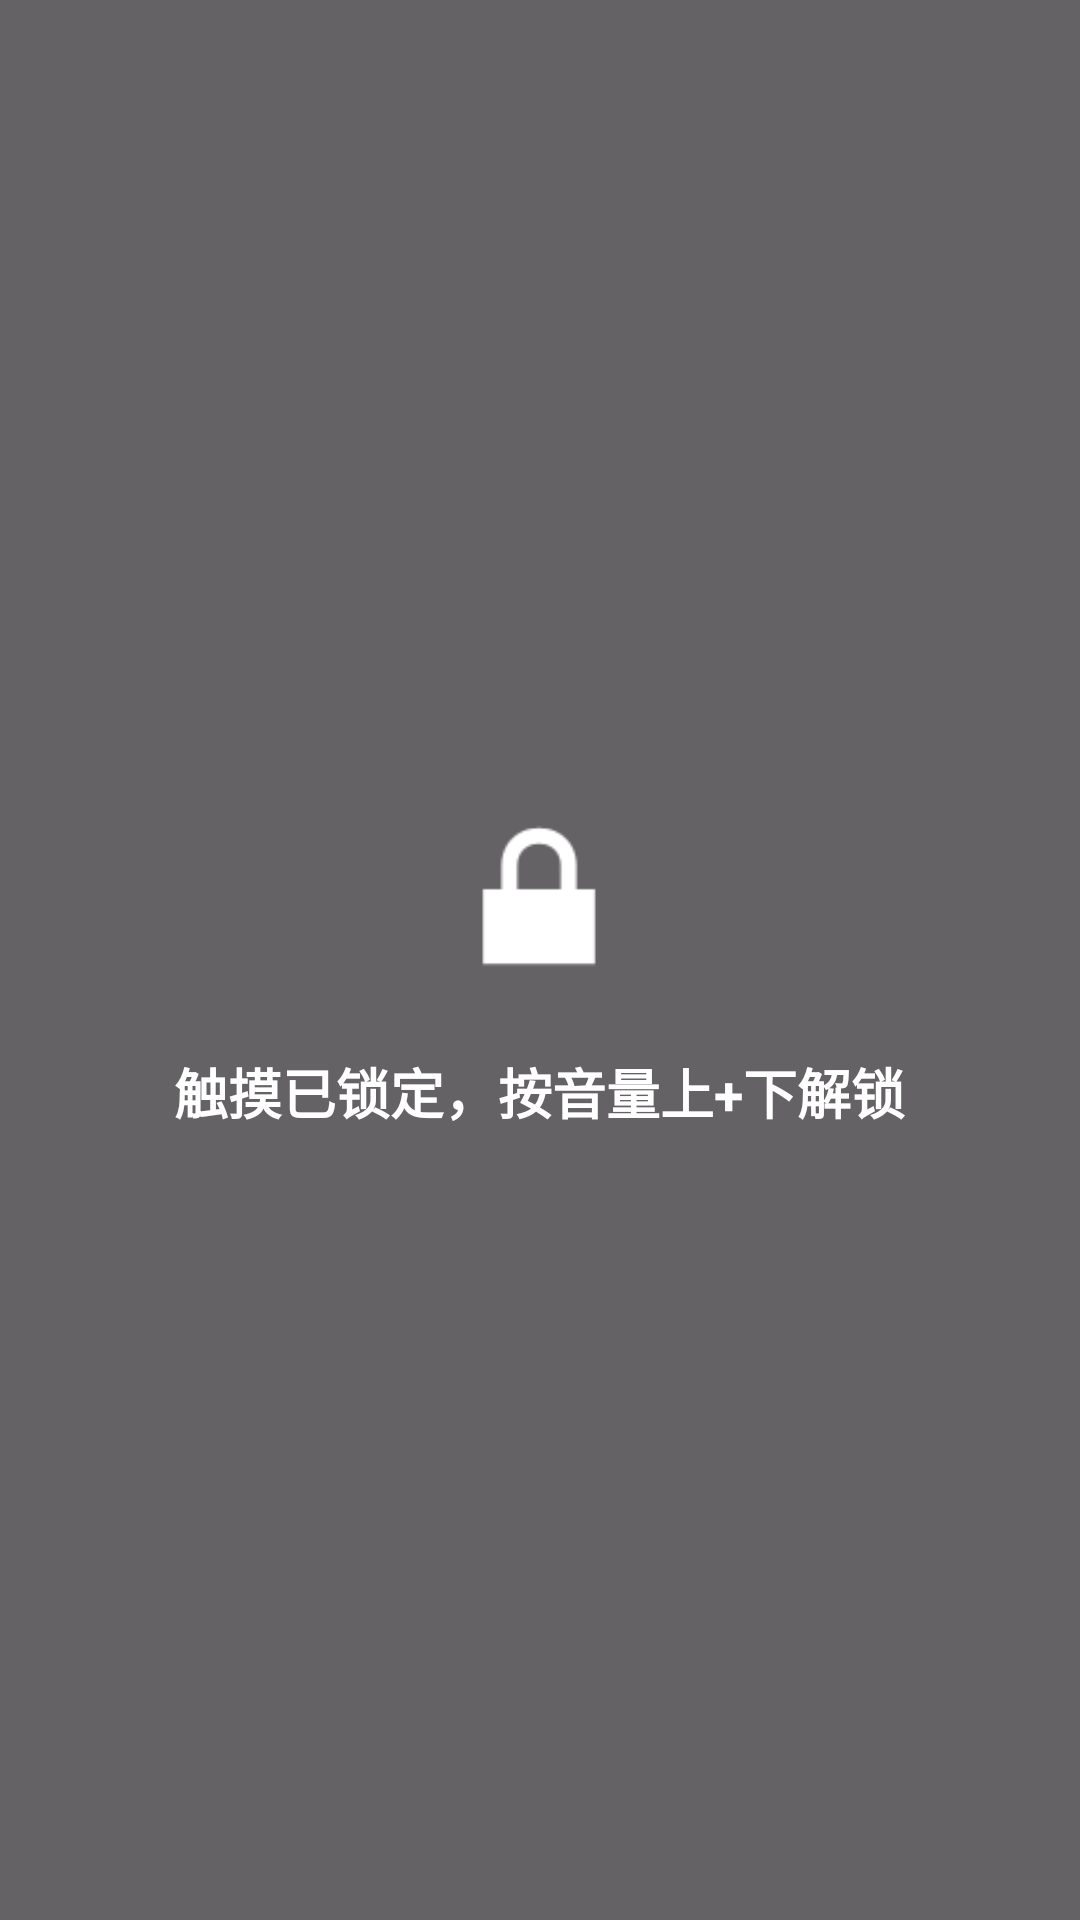

Screen size 1080w x 1920h. Icon name, then its center in pixels as [x,y]:
lock: [539,896]
